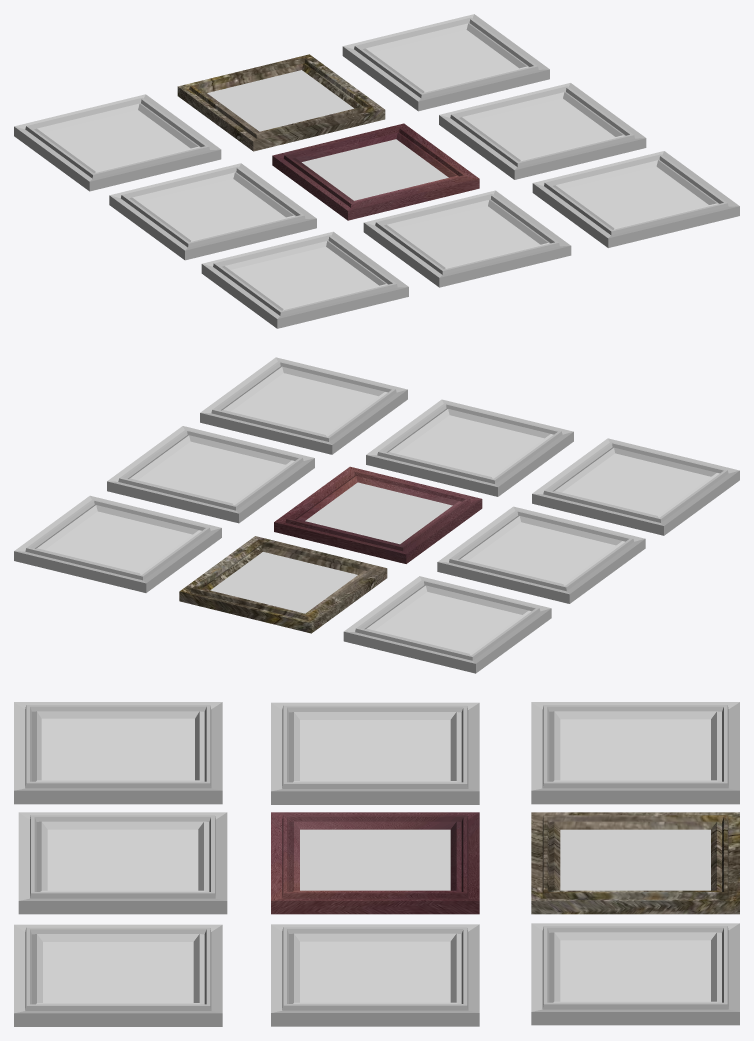
Rendered from picture_frame_0.fbx.
3 views of the same model, one above another, from view 1: azimuth 30°, elevation 25°; view 2: azimuth 150°, elevation 25°; view 3: azimuth 270°, elevation 25° (orthographic). The views are drawn at different scales.
Visible parts, largest first — view 1: Picture_Frame_3, Picture_Frame_4, Picture_Frame_2, Picture_Frame_0, Picture_Frame_8, Picture_Frame_6, Picture_Frame_7, Picture_Frame_5, Picture_Frame_1; view 2: Picture_Frame_4, Picture_Frame_6, Picture_Frame_2, Picture_Frame_0, Picture_Frame_8, Picture_Frame_1, Picture_Frame_7, Picture_Frame_3, Picture_Frame_5; view 3: Picture_Frame_3, Picture_Frame_8, Picture_Frame_7, Picture_Frame_6, Picture_Frame_5, Picture_Frame_4, Picture_Frame_2, Picture_Frame_1, Picture_Frame_0.
Part boxes in pixels (x1,y1,x2,y2): Picture_Frame_3: [363, 190, 571, 287]; Picture_Frame_4: [177, 54, 385, 151]; Picture_Frame_2: [109, 163, 316, 260]; Picture_Frame_0: [272, 123, 479, 220]; Picture_Frame_8: [532, 151, 739, 247]; Picture_Frame_6: [14, 94, 221, 191]; Picture_Frame_7: [201, 231, 408, 328]; Picture_Frame_5: [342, 14, 549, 111]; Picture_Frame_1: [439, 83, 646, 179]; Picture_Frame_4: [179, 536, 387, 633]; Picture_Frame_6: [343, 576, 551, 673]; Picture_Frame_2: [437, 506, 645, 603]; Picture_Frame_0: [274, 466, 482, 563]; Picture_Frame_8: [200, 357, 407, 454]; Picture_Frame_1: [107, 426, 314, 523]; Picture_Frame_7: [532, 438, 739, 535]; Picture_Frame_3: [366, 399, 573, 496]; Picture_Frame_5: [14, 495, 221, 592]; Picture_Frame_3: [18, 812, 227, 914]; Picture_Frame_8: [14, 924, 222, 1026]; Picture_Frame_7: [14, 702, 222, 804]; Picture_Frame_6: [531, 702, 739, 804]; Picture_Frame_5: [531, 923, 739, 1025]; Picture_Frame_4: [531, 812, 739, 914]; Picture_Frame_2: [271, 702, 479, 804]; Picture_Frame_1: [271, 924, 479, 1026]; Picture_Frame_0: [271, 812, 479, 914].
Bounding box in the file's own units: 310 × 7.33 × 305.
